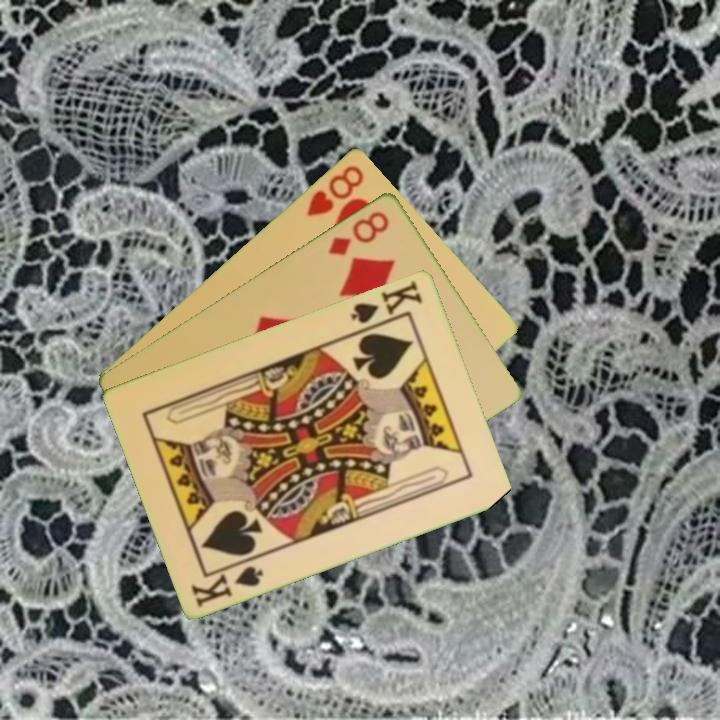8d: (324, 207, 393, 258)
8h: (302, 161, 367, 219)
Ks: (347, 276, 426, 326), (187, 561, 267, 610)
